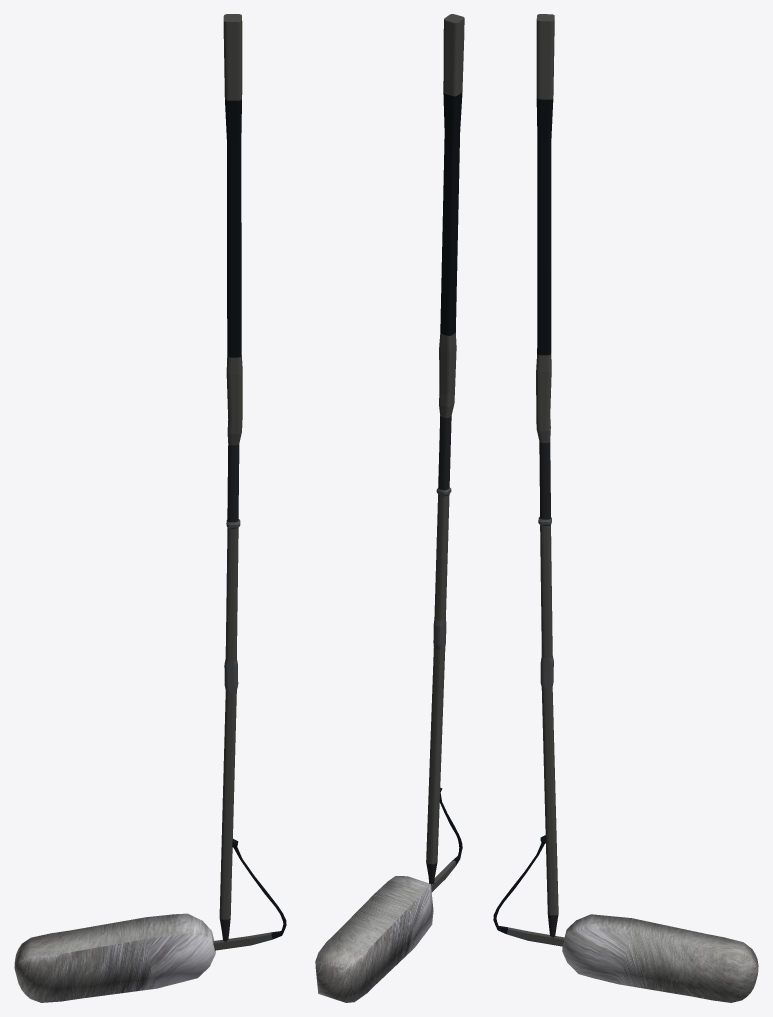
File: AuthenticBoomMic.fbx
3 views of the same model, side by side, from view 1: azimuth 90°, elevation 25°; view 2: azimuth 150°, elevation 25°; view 3: azimuth 270°, elevation 25° (orthographic). The views are drawn at different scales.
Visible parts, largest first — view 1: Cube; view 2: Cube; view 3: Cube.
Part boxes in pixels (bbox=[...]): Cube: bbox=[14, 14, 286, 1002]; Cube: bbox=[315, 14, 464, 1002]; Cube: bbox=[493, 14, 758, 1002].
Bounding box in the file's own units: 0.0453 × 0.7613 × 0.1895.
